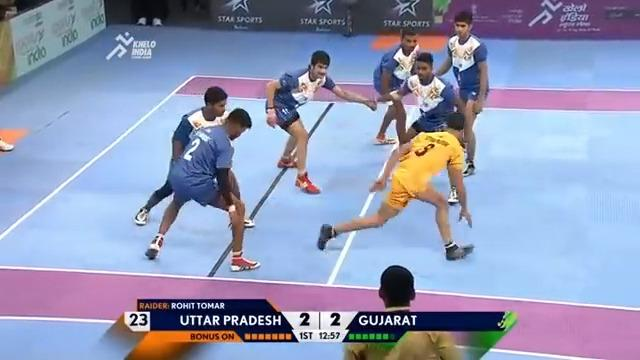Player: (144, 107, 261, 271), (261, 49, 377, 196), (133, 85, 233, 226), (431, 9, 490, 178), (374, 24, 417, 137)
Raider: (316, 111, 476, 262)
referee: (343, 264, 463, 359)
